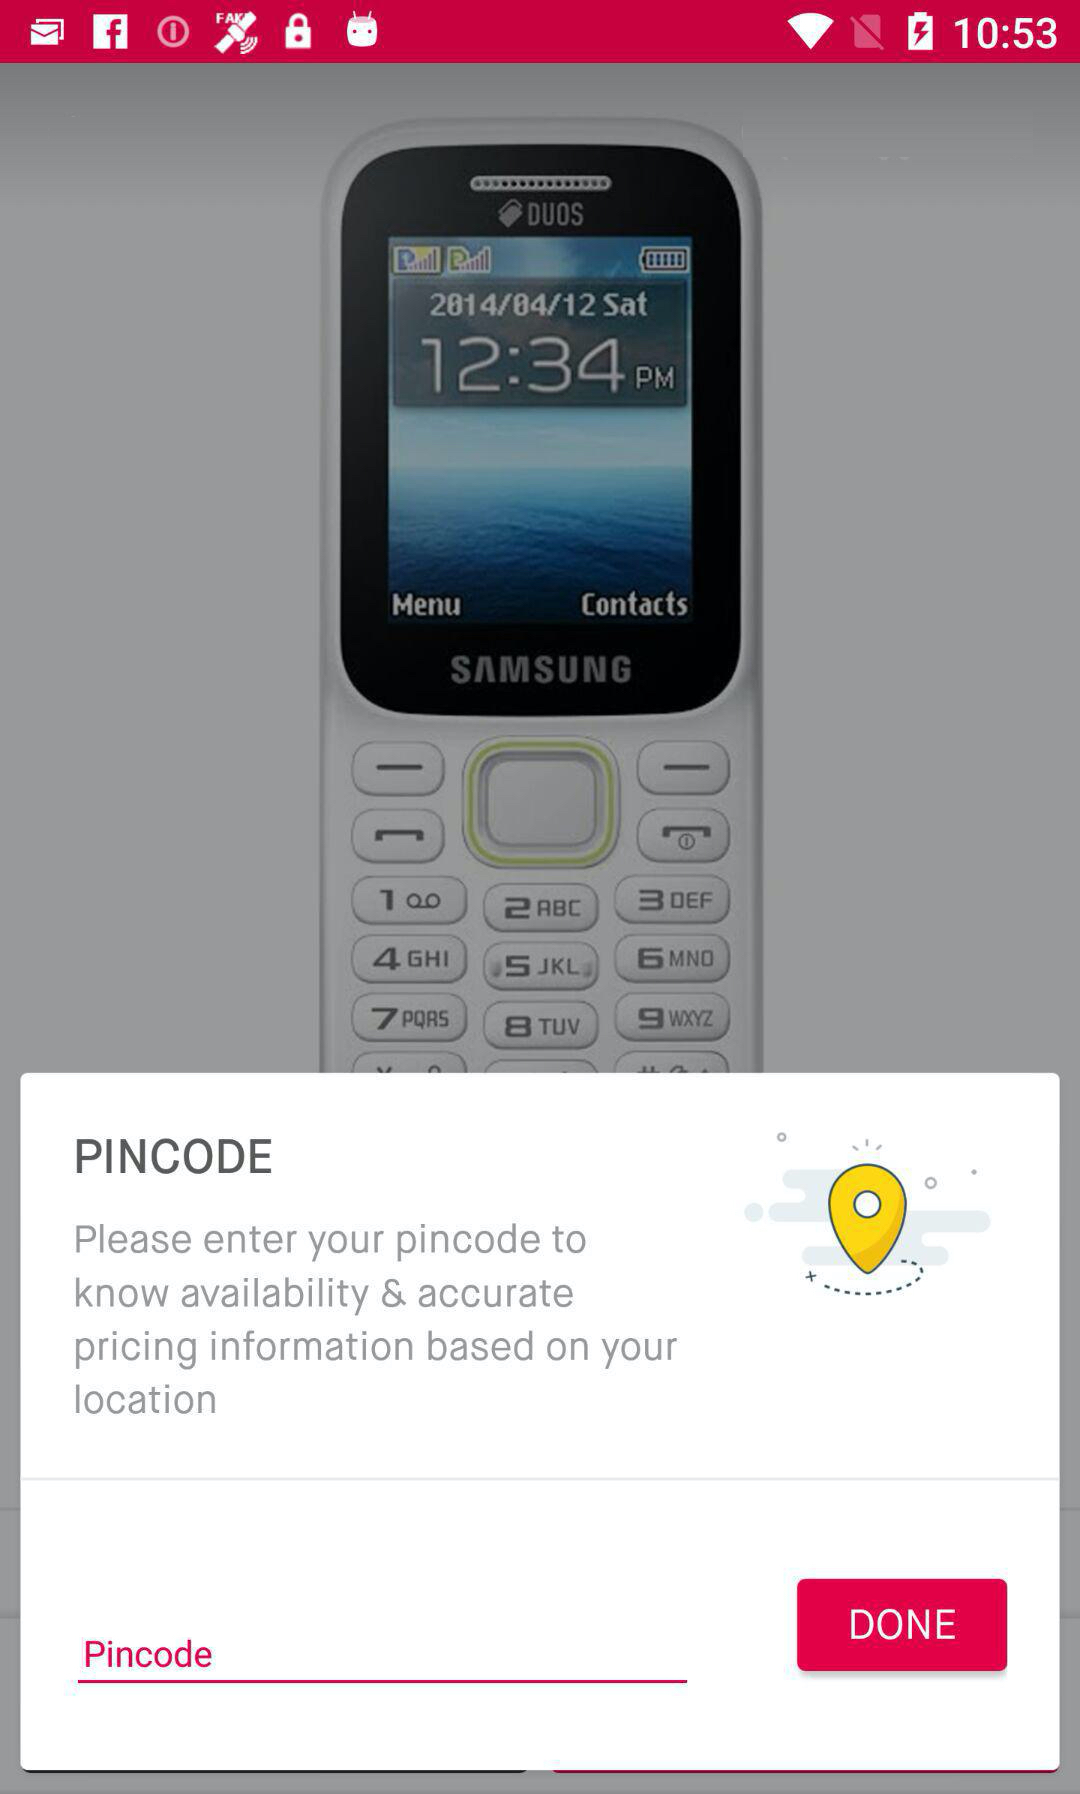EditText: (78, 1638, 688, 1683)
Image: (320, 118, 765, 1073), (744, 1132, 992, 1298)
Modal: (20, 1073, 1061, 1773)
Text: (76, 1222, 679, 1416), (77, 1137, 273, 1175), (86, 1638, 214, 1668)
TextButton: (797, 1577, 1008, 1672)
UpperTaskBar: (1, 1, 1080, 64)
